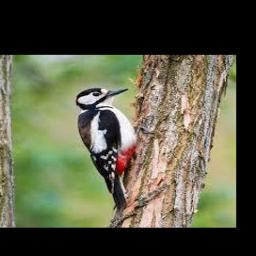Woodpecker: (75, 88, 137, 211)
